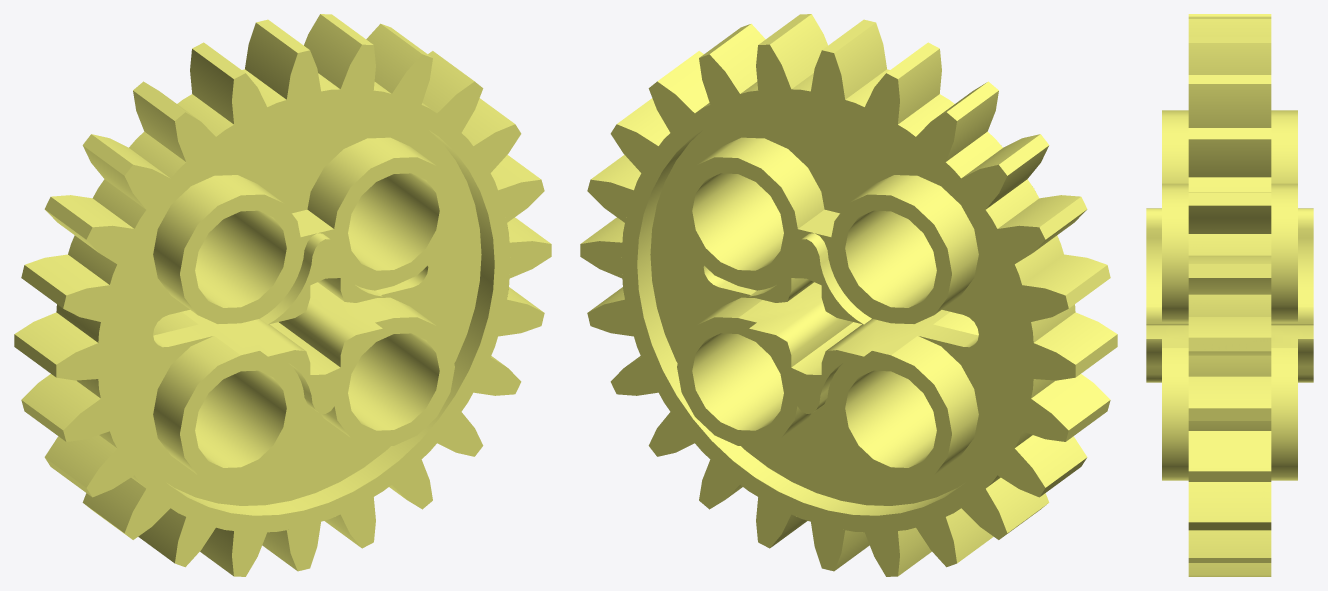
The picture shows the model from 3 angles, left to right: view 1: azimuth 30°, elevation 25°; view 2: azimuth 150°, elevation 25°; view 3: azimuth 270°, elevation 25°; orthographic projection.
Visible parts, largest first — view 1: 3648b.dat; view 2: 3648b.dat; view 3: 3648b.dat.
Boxes of the visible parts, box(x1,y1,x2,y2) form: 3648b.dat: box(14, 14, 551, 576); 3648b.dat: box(580, 14, 1117, 576); 3648b.dat: box(1146, 14, 1313, 576).
Size of the model in its own units: 0.0259 by 0.0259 by 0.0077.
